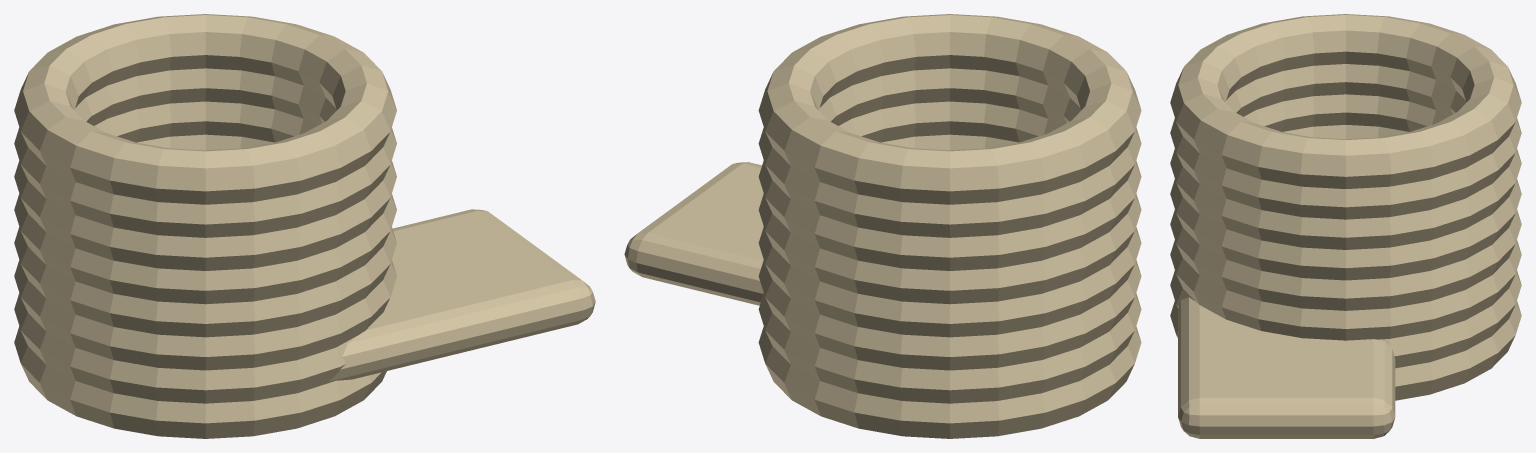
File: bandage.glb
3 renders of one model, left to right at view 1: azimuth 30°, elevation 25°; view 2: azimuth 150°, elevation 25°; view 3: azimuth 270°, elevation 25°, orthographic. The views are drawn at different scales.
Visible parts, largest first — view 1: Torus.007, Loose cloth end, Torus.006, Torus.005, Torus.004, Torus.003, Torus.002, Torus, Torus.001; view 2: Torus.007, Torus.006, Torus.005, Torus.004, Torus, Loose cloth end, Torus.001, Torus.002, Torus.003; view 3: Torus.007, Loose cloth end, Torus.006, Torus.005, Torus.004, Torus.003, Torus.002, Torus.001, Torus.
Boxes of the visible parts, x1,y1,x2,y2 form: Torus.007: (14,14,396,204); Loose cloth end: (329,209,595,381); Torus.006: (14,68,396,237); Torus.005: (14,101,396,270); Torus.004: (14,134,396,304); Torus.003: (14,227,396,337); Torus.002: (14,260,396,370); Torus: (14,326,386,438); Torus.001: (14,293,356,403); Torus.007: (758,14,1141,204); Torus.006: (758,68,1141,237); Torus.005: (758,101,1141,270); Torus.004: (758,134,1141,304); Torus: (758,326,1141,438); Loose cloth end: (624,162,763,305); Torus.001: (758,293,1141,403); Torus.002: (758,260,1141,370); Torus.003: (758,227,1141,337); Torus.007: (1170,14,1521,188); Loose cloth end: (1178,297,1395,438); Torus.006: (1170,64,1521,219); Torus.005: (1170,94,1521,249); Torus.004: (1170,125,1521,280); Torus.003: (1170,209,1521,310); Torus.002: (1170,240,1521,340); Torus.001: (1170,270,1521,368); Torus: (1170,301,1521,400).
Size of the model in its own units: 0.254 by 0.147 by 0.178.
